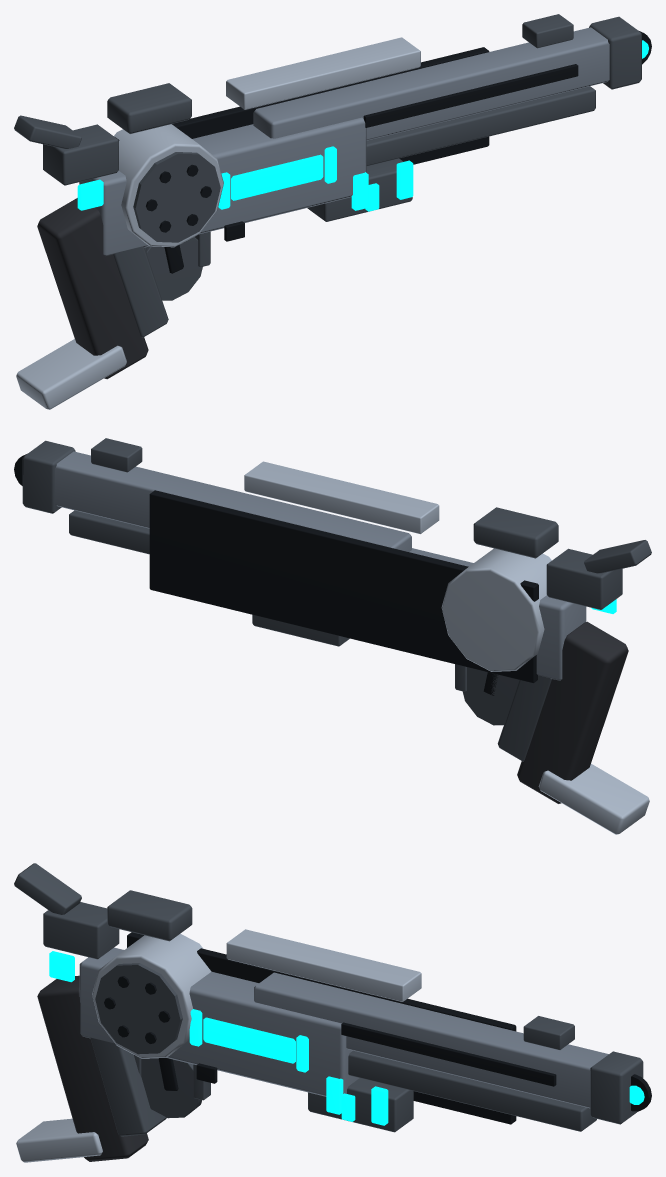
The model's file is revolver_lowpoly_scifi.glb.
3 views of the same model, one above another, from view 1: azimuth 30°, elevation 25°; view 2: azimuth 150°, elevation 25°; view 3: azimuth 330°, elevation 25° (orthographic).
Parts seen in each view (by area): view 1: upper long barrel shroud, main angular frame, grip spine, top rail raised slab, lower barrel rail, cylinder dark cap front, grip butt cap, revolver cylinder, back silhouette thickness, rear hammer block, top rear sight block, barrel side inset black (+10 smaller); view 2: back silhouette thickness, upper long barrel shroud, grip spine, revolver cylinder, top rail raised slab, grip butt cap, rear hammer block, top rear sight block, main angular frame, grip front plate, barrel muzzle block, lower barrel rail (+4 smaller); view 3: upper long barrel shroud, main angular frame, grip spine, top rail raised slab, lower barrel rail, cylinder dark cap front, revolver cylinder, grip front plate, back silhouette thickness, rear hammer block, top rear sight block, barrel side inset black (+13 smaller).
Boxes of the visible parts, bbox=[...] form: upper long barrel shroud: bbox=[253, 27, 609, 140]; main angular frame: bbox=[79, 117, 366, 255]; grip spine: bbox=[37, 198, 148, 379]; top rail raised slab: bbox=[226, 37, 420, 109]; lower barrel rail: bbox=[366, 86, 595, 166]; cylinder dark cap front: bbox=[133, 152, 220, 242]; grip butt cap: bbox=[16, 339, 126, 409]; revolver cylinder: bbox=[114, 124, 223, 247]; back silhouette thickness: bbox=[115, 47, 489, 164]; rear hammer block: bbox=[43, 124, 118, 185]; top rear sight block: bbox=[107, 83, 191, 133]; barrel side inset black: bbox=[363, 64, 578, 127]; back silhouette thickness: bbox=[149, 490, 538, 683]; upper long barrel shroud: bbox=[55, 451, 411, 551]; grip spine: bbox=[517, 621, 628, 803]; revolver cylinder: bbox=[441, 548, 551, 671]; top rail raised slab: bbox=[244, 461, 439, 534]; grip butt cap: bbox=[538, 763, 649, 834]; rear hammer block: bbox=[546, 548, 622, 609]; top rear sight block: bbox=[473, 507, 558, 558]; main angular frame: bbox=[409, 548, 586, 680]; grip front plate: bbox=[497, 675, 551, 761]; barrel muzzle block: bbox=[22, 440, 75, 513]; lower barrel rail: bbox=[69, 510, 149, 554]; upper long barrel shroud: bbox=[254, 972, 608, 1108]; main angular frame: bbox=[79, 947, 359, 1096]; grip spine: bbox=[37, 975, 148, 1161]; top rail raised slab: bbox=[226, 929, 421, 1001]; lower barrel rail: bbox=[348, 1050, 596, 1131]; cylinder dark cap front: bbox=[95, 963, 182, 1054]; revolver cylinder: bbox=[92, 933, 211, 1058]; grip front plate: bbox=[90, 1038, 166, 1136]; back silhouette thickness: bbox=[127, 932, 516, 1124]; rear hammer block: bbox=[43, 902, 119, 959]; top rear sight block: bbox=[107, 890, 192, 941]; barrel side inset black: bbox=[341, 1022, 556, 1086].
Bounding box in the file's own units: 3.83 × 1.64 × 0.4158.
